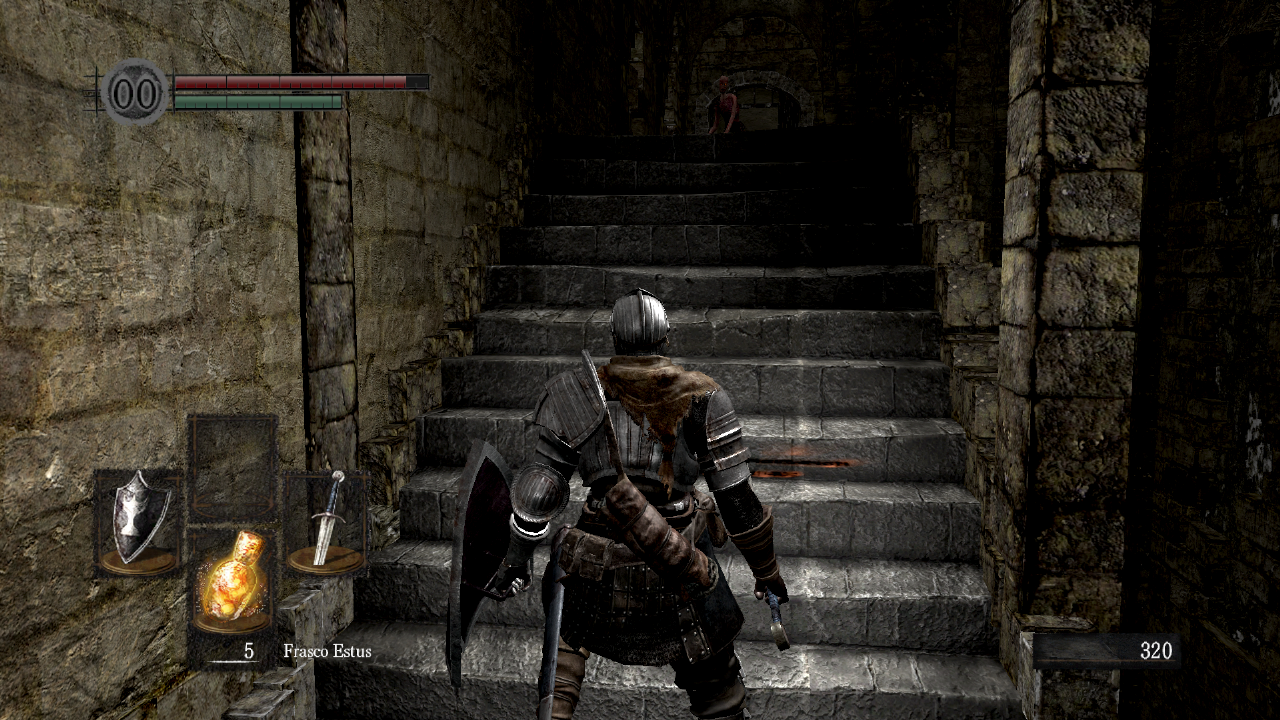hollow: (709, 75, 748, 134)
player: (446, 287, 792, 720)
